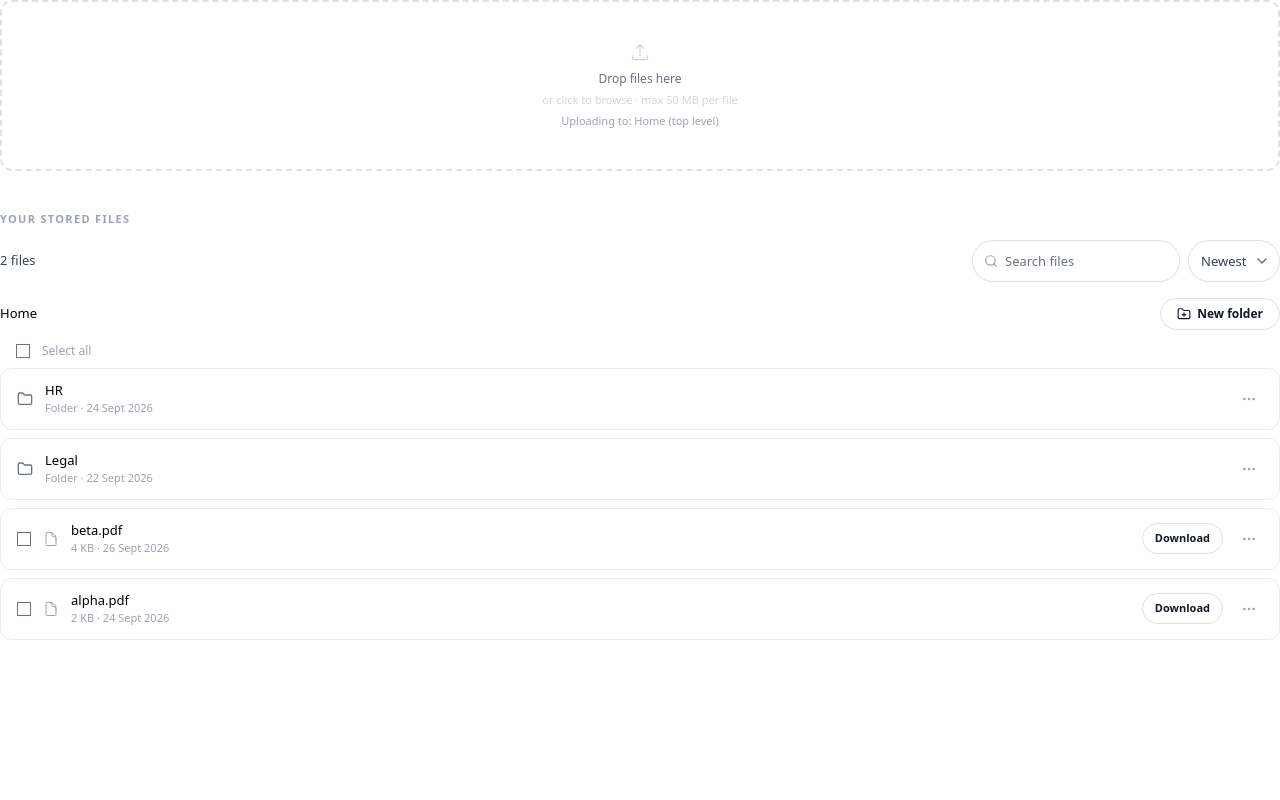
Scenario: FileBrowser › creates a subfolder inside the folder you are in
Step 1. Click the button with aria-label "Open folder Legal" → coordinates (61, 460), box [45, 450, 1223, 486]
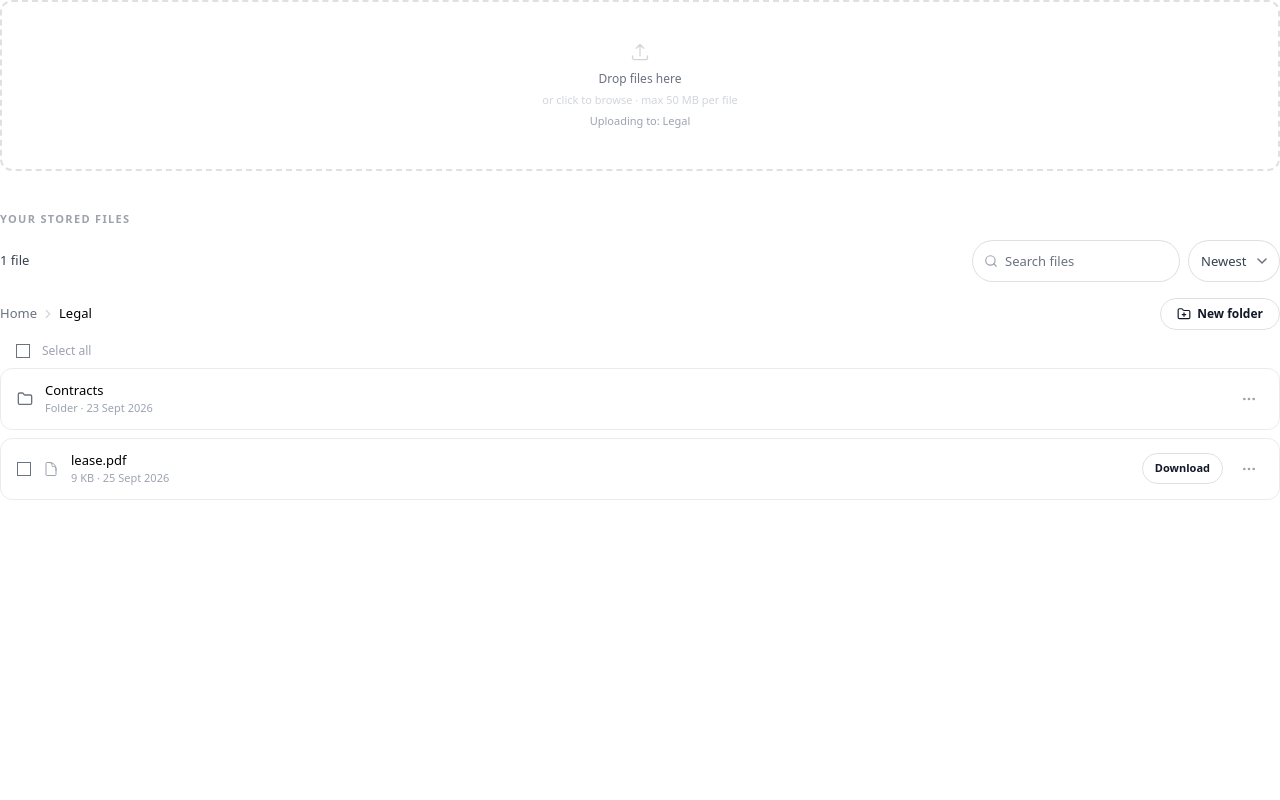
Now the text "lease.pdf" is shown, box [71, 450, 126, 468]
Step 2. Click the button "New folder" → coordinates (1220, 314), box [1160, 298, 1279, 330]
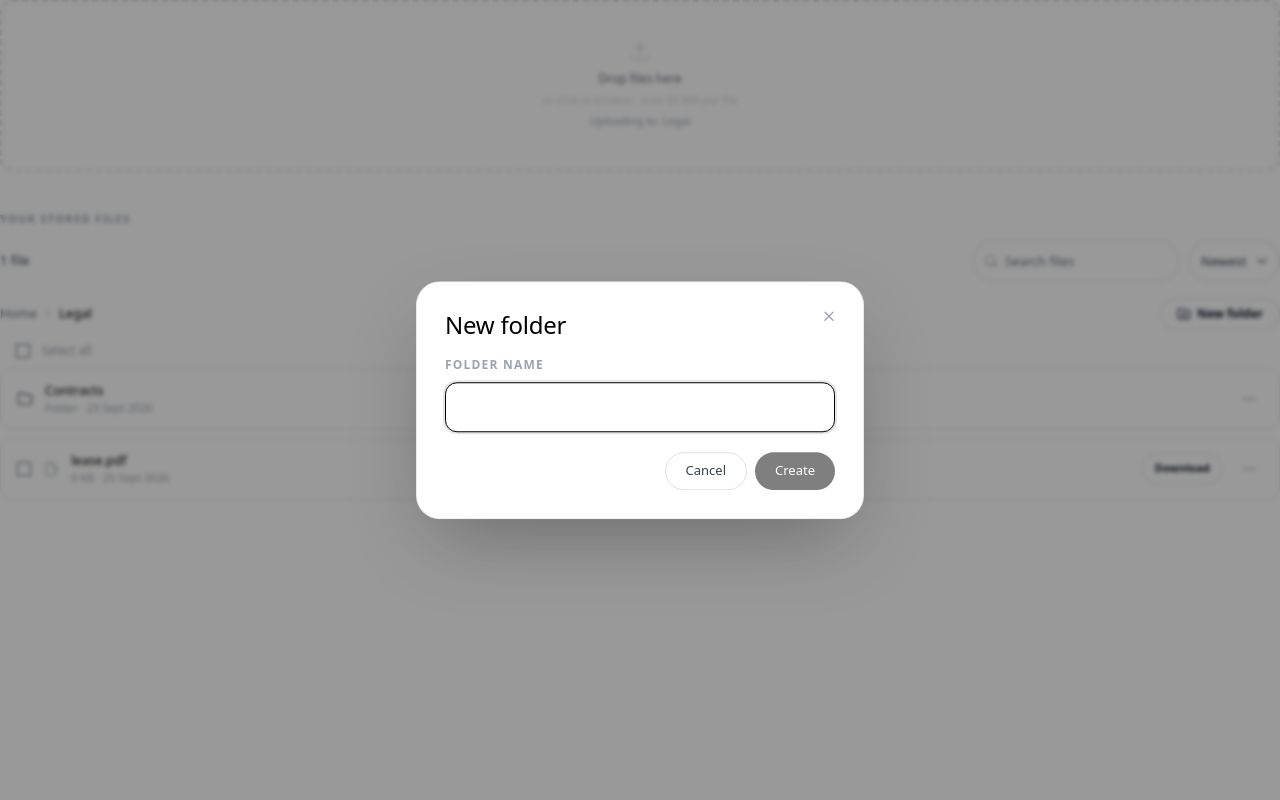
Step 3. Type "Leases" into the field labelled "Folder name" → coordinates (640, 407), box [445, 382, 835, 432]
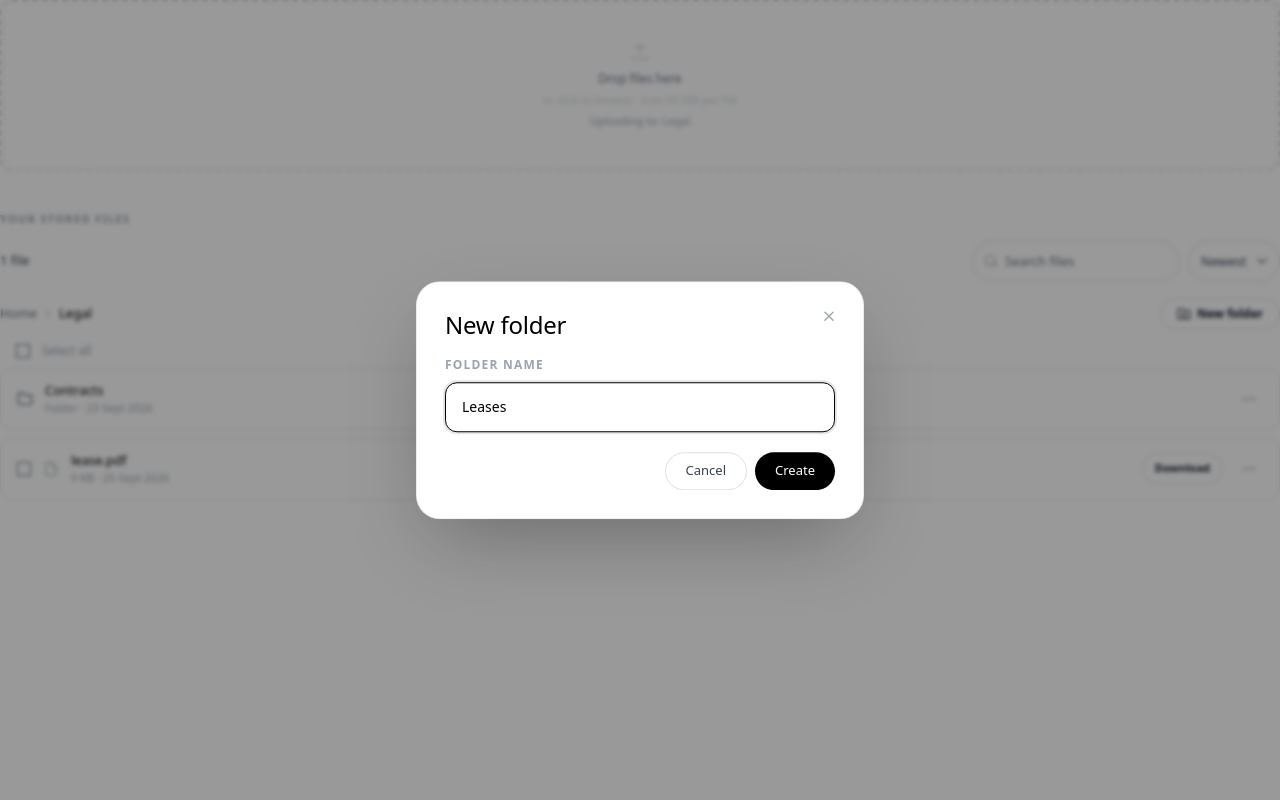
Step 4. Click the button "Create" → coordinates (795, 471), box [755, 452, 835, 490]
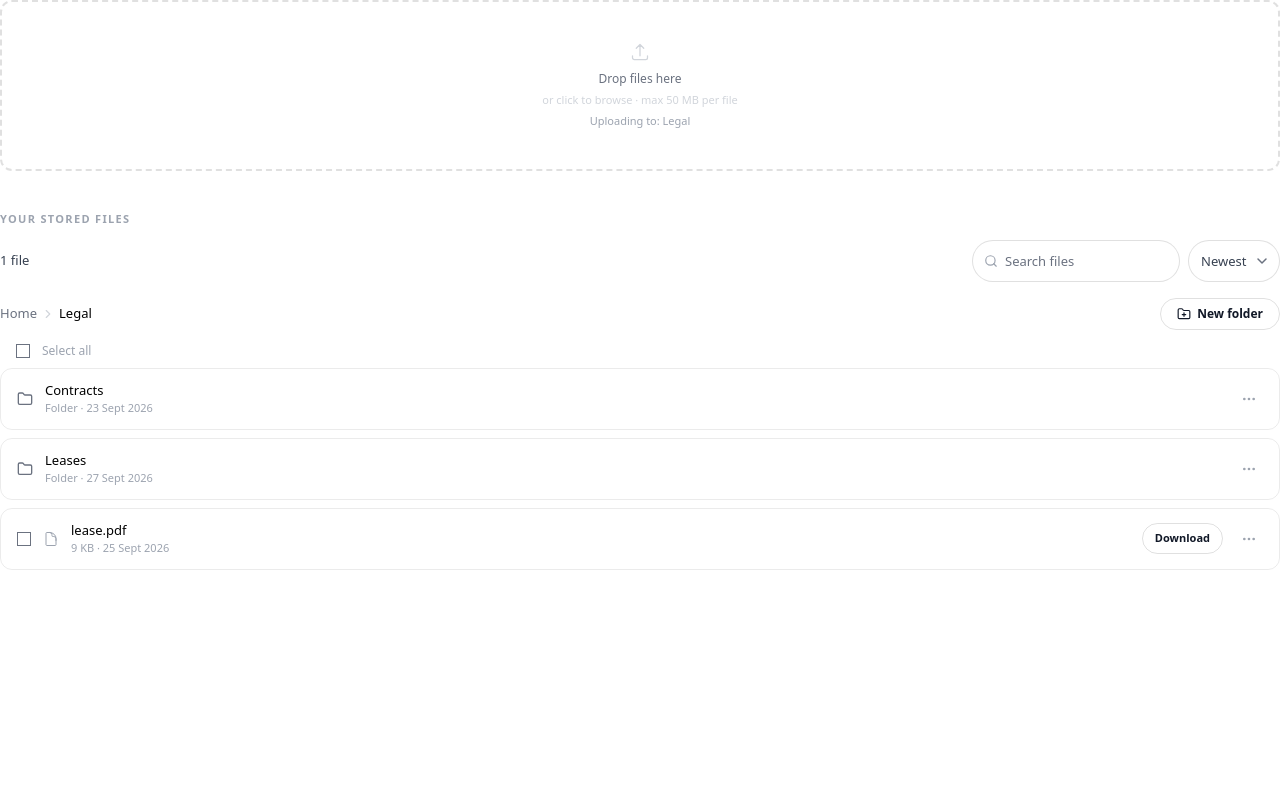
Now the button with aria-label "Open folder Leases" is shown, box [45, 450, 1223, 486]
